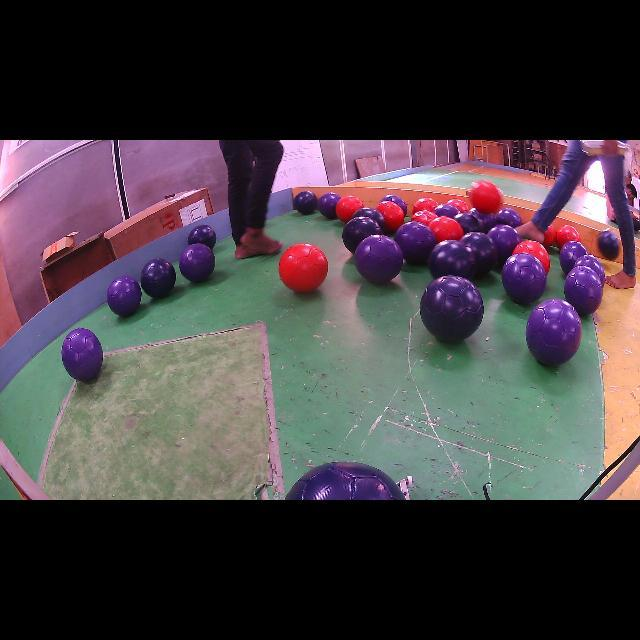B: (285, 461, 406, 500), (420, 275, 484, 342), (428, 240, 476, 280), (460, 231, 498, 276), (342, 216, 382, 253), (140, 259, 176, 298), (352, 208, 385, 232), (598, 229, 620, 260), (188, 225, 216, 249), (454, 212, 484, 233), (294, 191, 318, 215)
P: (526, 299, 581, 366), (501, 252, 546, 304), (355, 235, 402, 284), (61, 328, 104, 381), (564, 266, 602, 315), (395, 221, 436, 264), (179, 244, 215, 282), (108, 276, 141, 316), (488, 225, 521, 264), (560, 241, 588, 275), (575, 255, 605, 286), (470, 208, 496, 234), (318, 192, 341, 219), (380, 195, 408, 215), (496, 208, 522, 228), (434, 204, 460, 218)
R: (279, 244, 329, 292), (512, 240, 550, 273), (470, 180, 501, 214), (429, 216, 464, 242), (376, 201, 405, 232), (336, 195, 364, 222), (556, 225, 581, 248), (412, 198, 439, 214), (411, 210, 438, 225), (542, 225, 556, 248), (448, 199, 470, 212)
